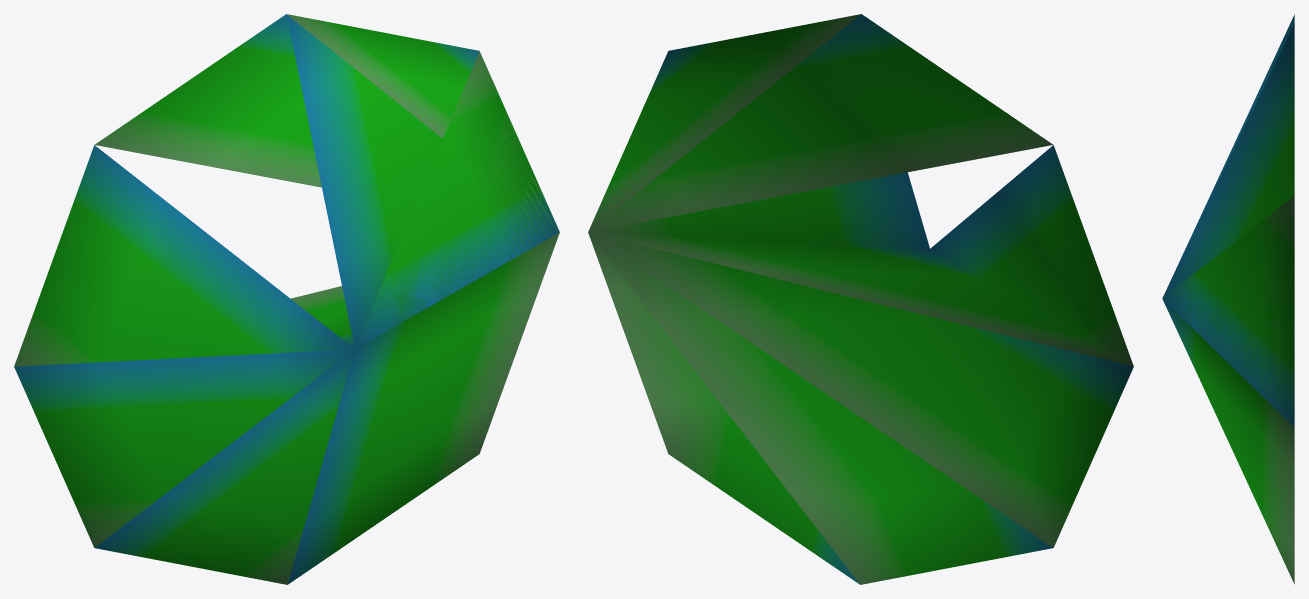
3 views of the same model, side by side, from view 1: azimuth 30°, elevation 25°; view 2: azimuth 150°, elevation 25°; view 3: azimuth 270°, elevation 25° (orthographic). The views are drawn at different scales.
Parts seen in each view (by area): view 1: T1L4M003_18; view 2: T1L4M003_18; view 3: T1L4M003_18.
Part boxes in pixels (left/top/right/bottom): T1L4M003_18: left=14, top=14, right=559, bottom=584; T1L4M003_18: left=588, top=14, right=1133, bottom=584; T1L4M003_18: left=1162, top=14, right=1294, bottom=584.
Size of the model in its own units: 0.458 by 0.458 by 0.0996.
